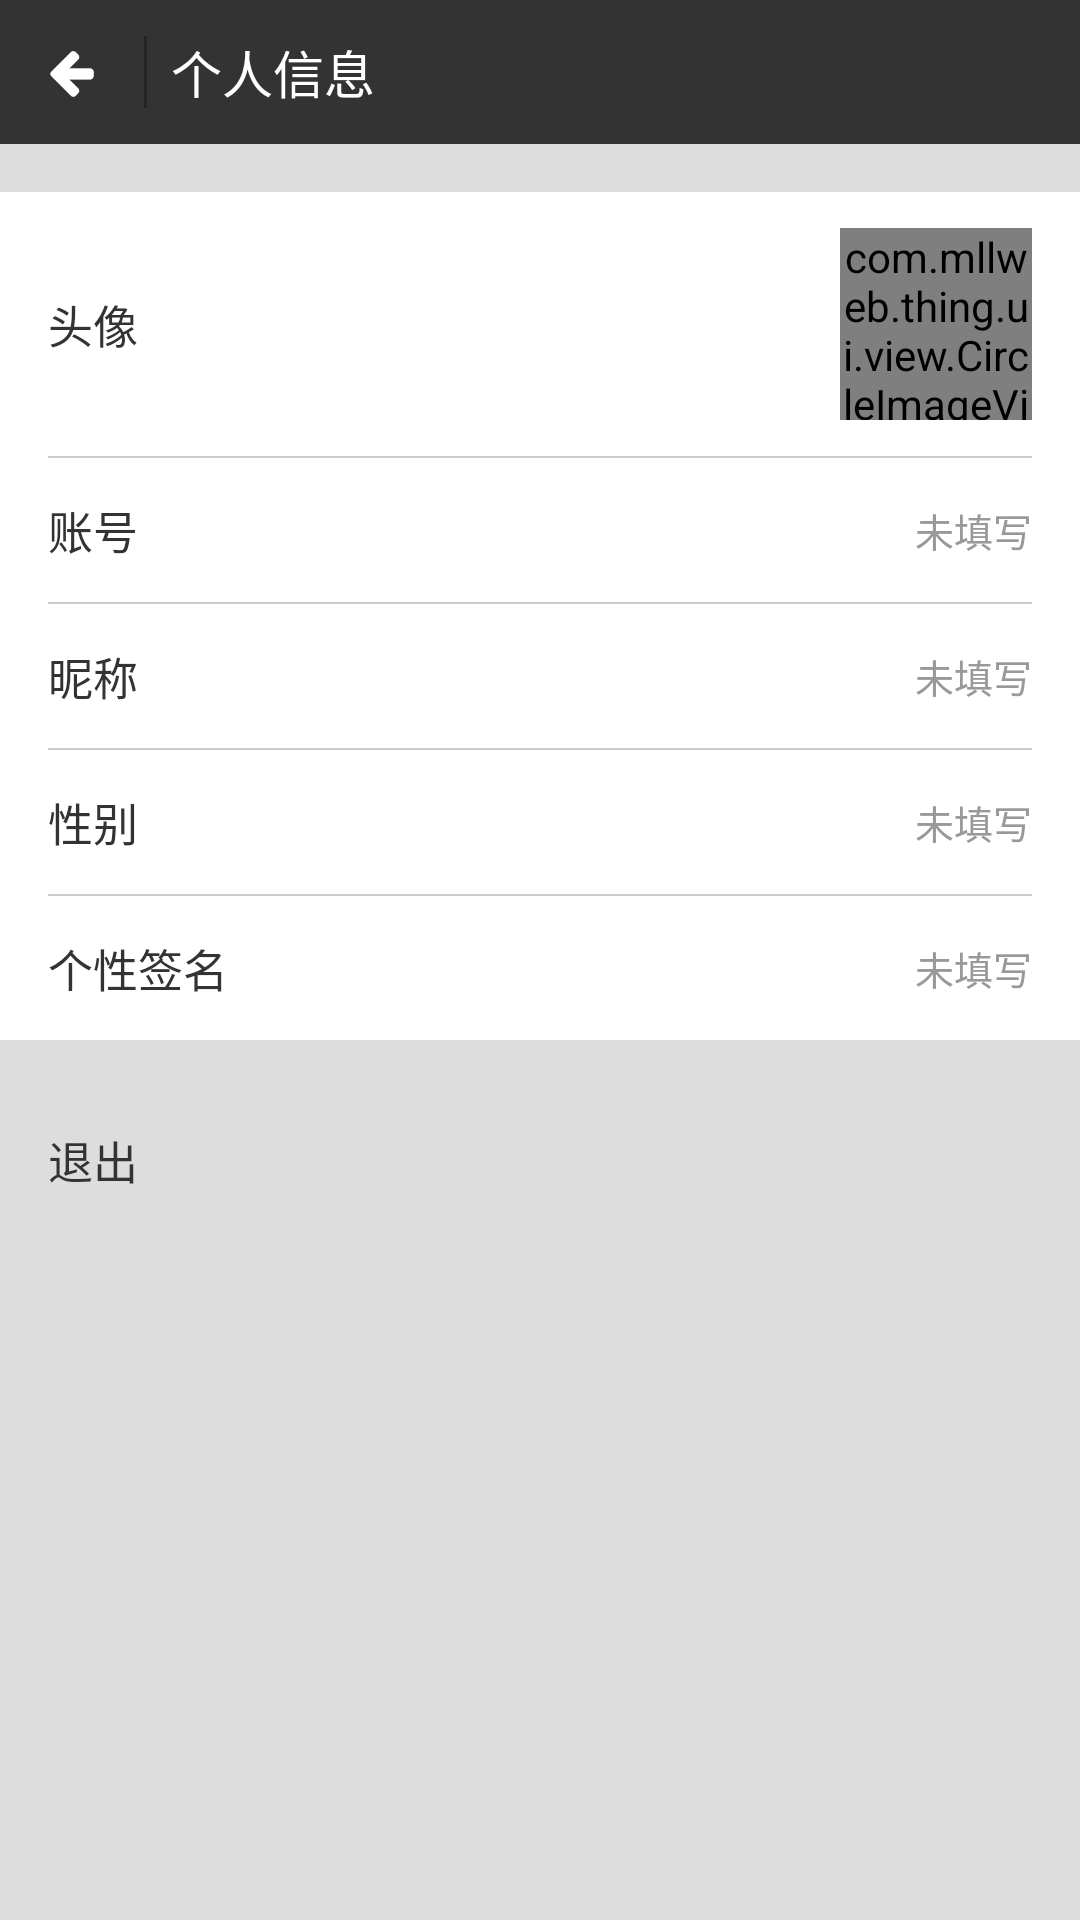

Named icons in this screenshot (1080*1920) and their bounding boxes, (x1, y1, x2, y2):
back: (50, 51, 94, 97)
